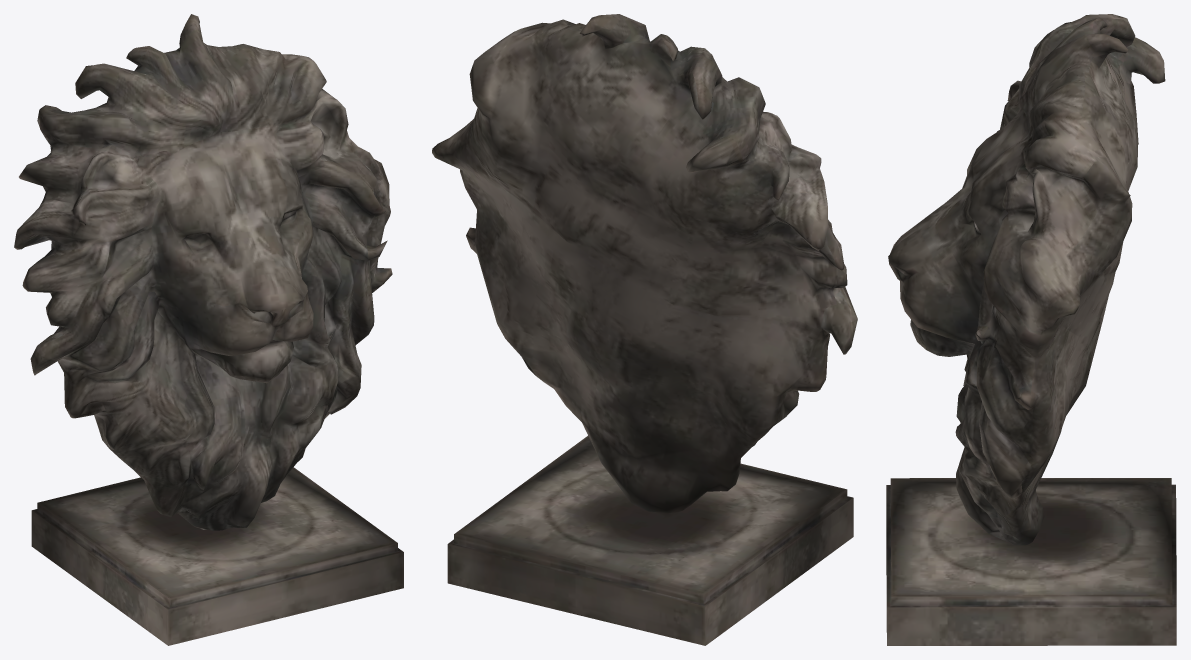
The model's file is lion_head.glb.
The picture shows the model from 3 angles, left to right: view 1: azimuth 30°, elevation 25°; view 2: azimuth 150°, elevation 25°; view 3: azimuth 270°, elevation 25°; orthographic projection. The views are drawn at different scales.
Visible parts, largest first — view 1: lion_head; view 2: lion_head; view 3: lion_head.
Boxes of the visible parts, x1,y1,x2,y2 form: lion_head: (14,14,403,645); lion_head: (432,14,857,645); lion_head: (886,14,1176,645).
Size of the model in its own units: 0.3202 by 0.4359 by 0.2066.
1 material, 1 textured.
